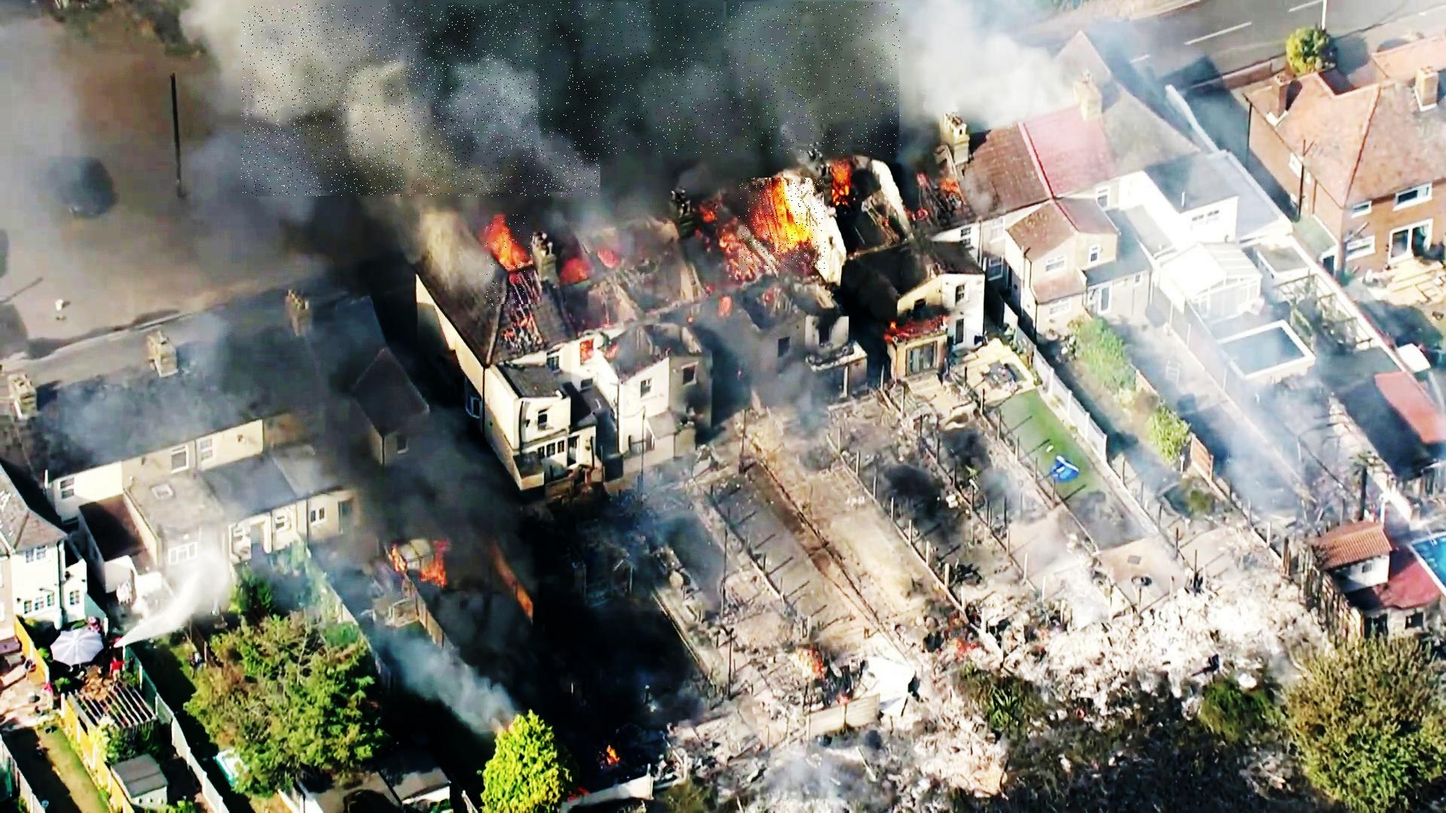fire: (739, 178, 826, 270), (486, 215, 533, 306)
smoke: (241, 4, 600, 196), (539, 2, 901, 154)
